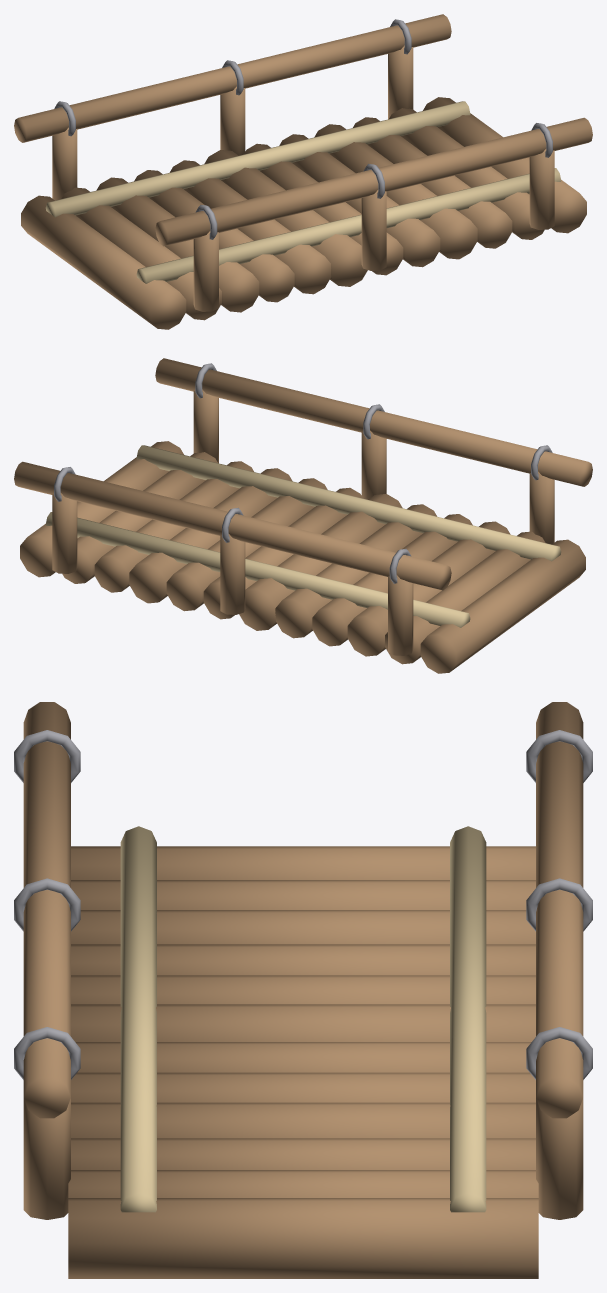
File: Bridge_Wood.fbx
3 views of the same model, one above another, from view 1: azimuth 30°, elevation 25°; view 2: azimuth 150°, elevation 25°; view 3: azimuth 270°, elevation 25° (orthographic). The views are drawn at different scales.
Parts seen in each view (by area): view 1: Bridge_Wood; view 2: Bridge_Wood; view 3: Bridge_Wood.
Part boxes in pixels (x1,y1,x2,y2): Bridge_Wood: [14, 14, 592, 329]; Bridge_Wood: [14, 358, 592, 673]; Bridge_Wood: [14, 702, 592, 1278].
Size of what is drawn, in the model's own units: 1.75 by 0.4676 by 1.11.
